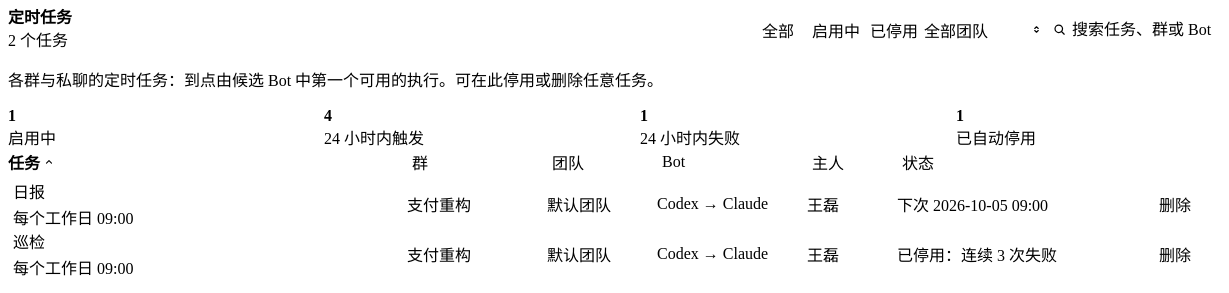
admin schedules › lists every task with totals and filters by status
Expected: the text "日报" is shown, [13, 184, 45, 201]
Expected: the text "巡检" is shown, [13, 234, 45, 251]
Click the radio button labelled "已停用".
click(894, 30)  # box [866, 18, 922, 42]
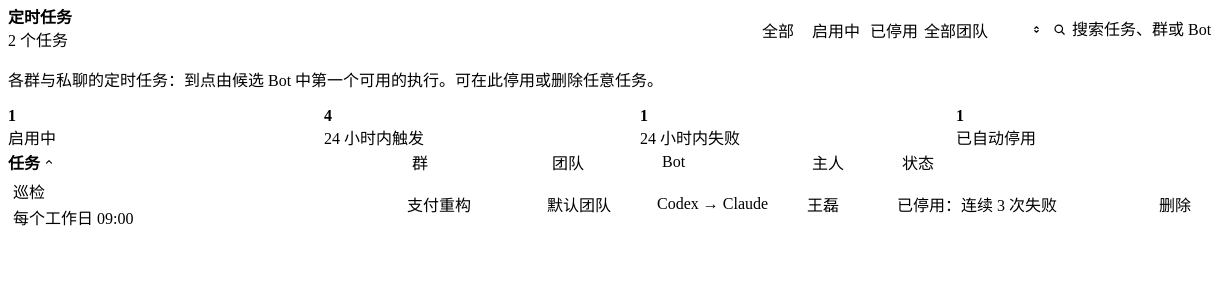
Result: the text "日报" is gone
